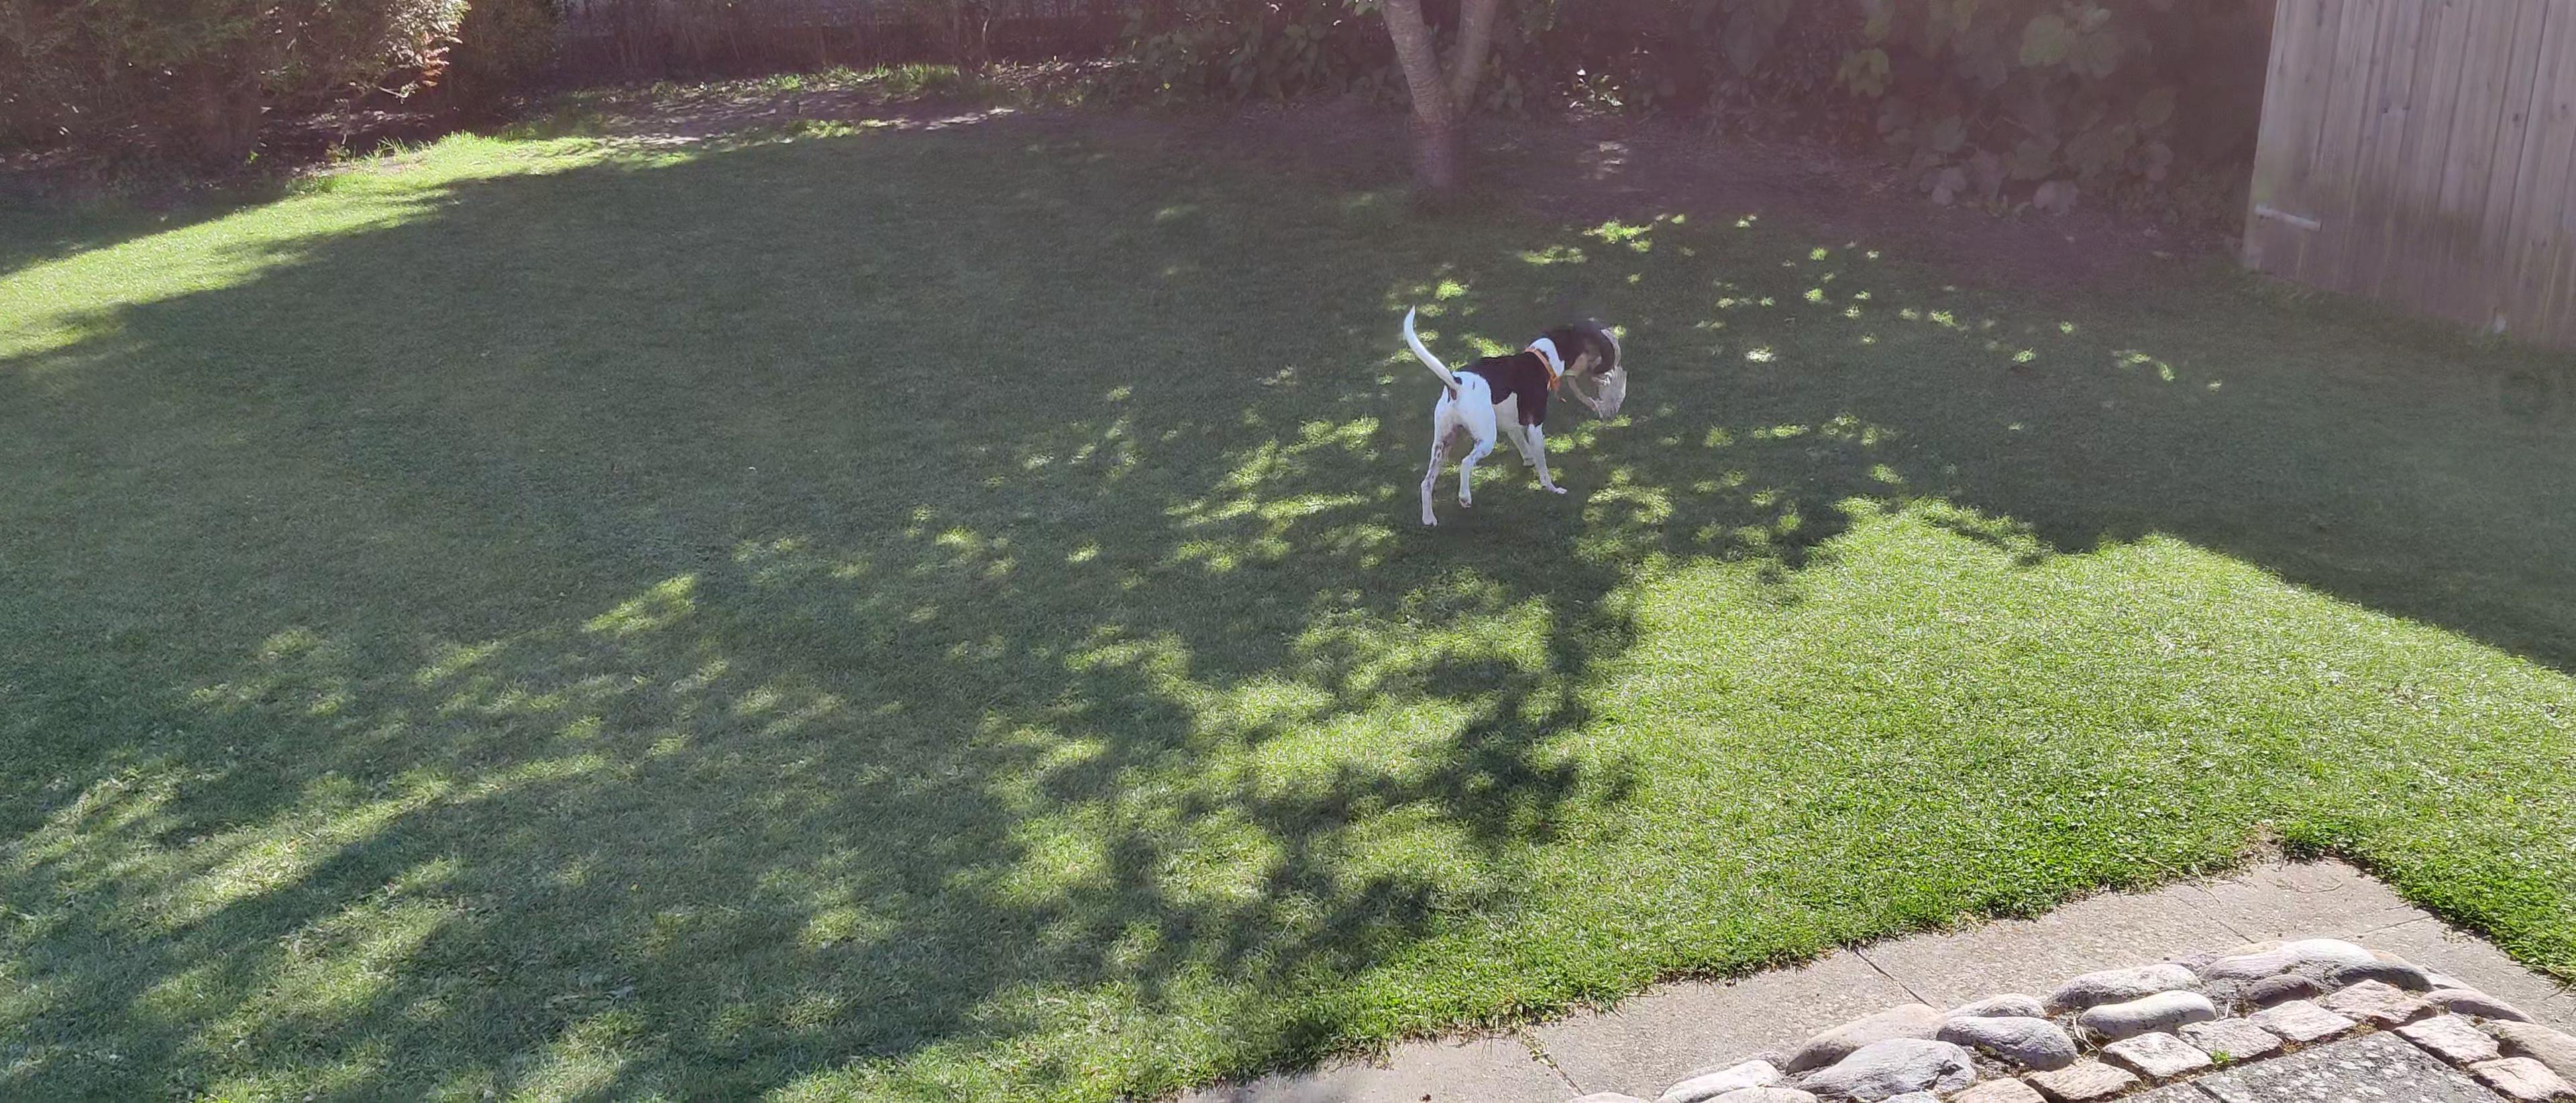Dog: (1400, 301, 1585, 526)
